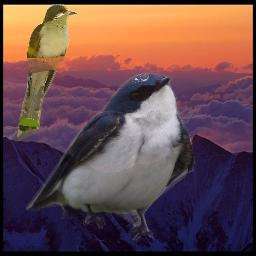Cuckoo: (17, 4, 78, 141)
Swallow: (26, 72, 196, 242)
